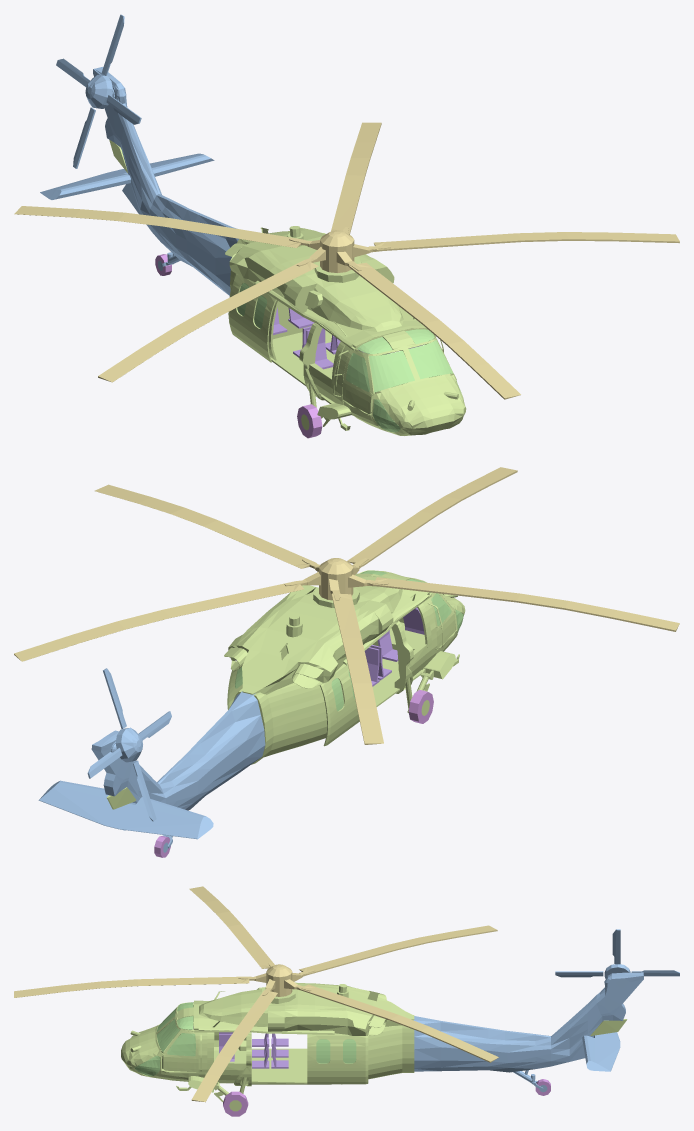
The model's file is air-rotary-rot-04--rot-04-mountedmachineguns.glb.
3 renders of one model, top to bottom at view 1: azimuth 30°, elevation 25°; view 2: azimuth 150°, elevation 25°; view 3: azimuth 270°, elevation 25°, orthographic. The views are drawn at different scales.
Parts seen in each view (by area): view 1: CC_ROT_04_Body_01, CC_ROT_04_RotorBlades, CC_ROT_04_MainRotor, CC_ROT_04_RearRotor_Blades, CC_ROT_04_RearRotor; view 2: CC_ROT_04_Body_01, CC_ROT_04_RotorBlades, CC_ROT_04_MainRotor, CC_ROT_04_RearRotor_Blades, CC_ROT_04_RearRotor; view 3: CC_ROT_04_Body_01, CC_ROT_04_RotorBlades, CC_ROT_04_MainRotor, CC_ROT_04_RearRotor_Blades.
Boxes of the visible parts, x1=… form: CC_ROT_04_Body_01: x1=40, y1=67, x2=466, y2=438; CC_ROT_04_RotorBlades: x1=14, y1=122, x2=679, y2=399; CC_ROT_04_MainRotor: x1=289, y1=227, x2=390, y2=272; CC_ROT_04_RearRotor_Blades: x1=56, y1=14, x2=141, y2=168; CC_ROT_04_RearRotor: x1=85, y1=74, x2=112, y2=108; CC_ROT_04_Body_01: x1=38, y1=570, x2=465, y2=857; CC_ROT_04_RotorBlades: x1=14, y1=467, x2=679, y2=744; CC_ROT_04_MainRotor: x1=284, y1=558, x2=388, y2=600; CC_ROT_04_RearRotor_Blades: x1=87, y1=668, x2=171, y2=821; CC_ROT_04_RearRotor: x1=115, y1=727, x2=142, y2=762; CC_ROT_04_Body_01: x1=121, y1=972, x2=643, y2=1116; CC_ROT_04_RotorBlades: x1=14, y1=886, x2=498, y2=1102; CC_ROT_04_MainRotor: x1=238, y1=962, x2=315, y2=996; CC_ROT_04_RearRotor_Blades: x1=555, y1=929, x2=679, y2=977.
Bounding box in the file's own units: 15.83 × 5.78 × 20.71.
